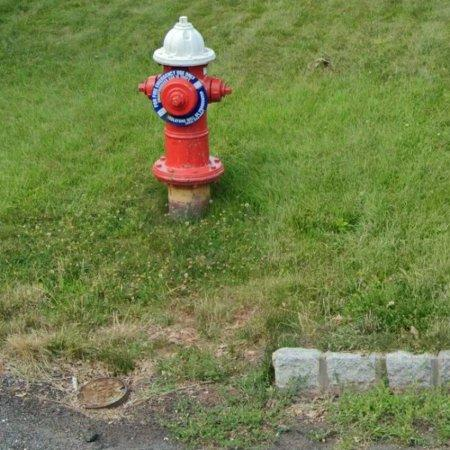a fire hydrant: (139, 16, 232, 216)
